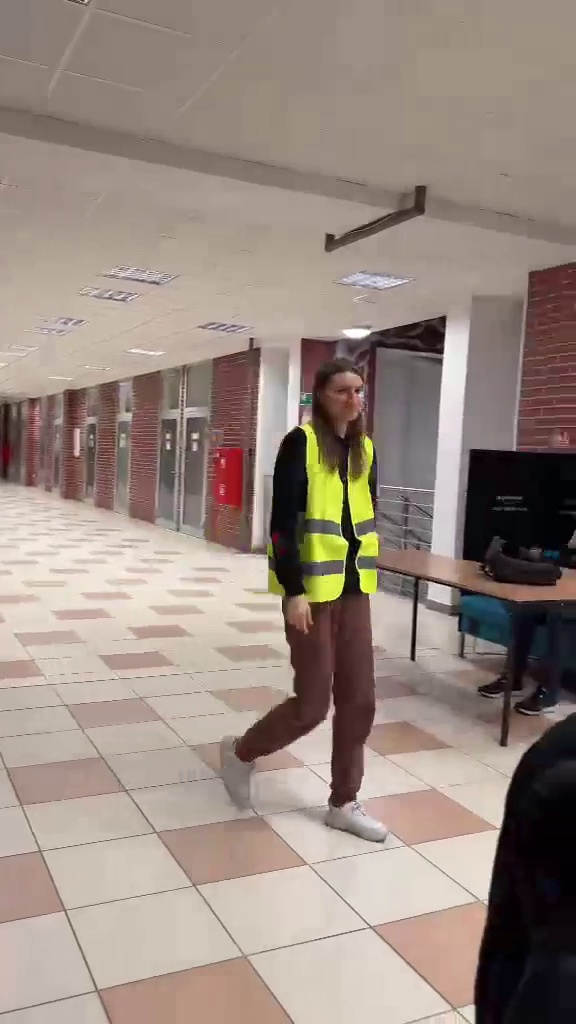vest: (227, 355, 390, 841)
